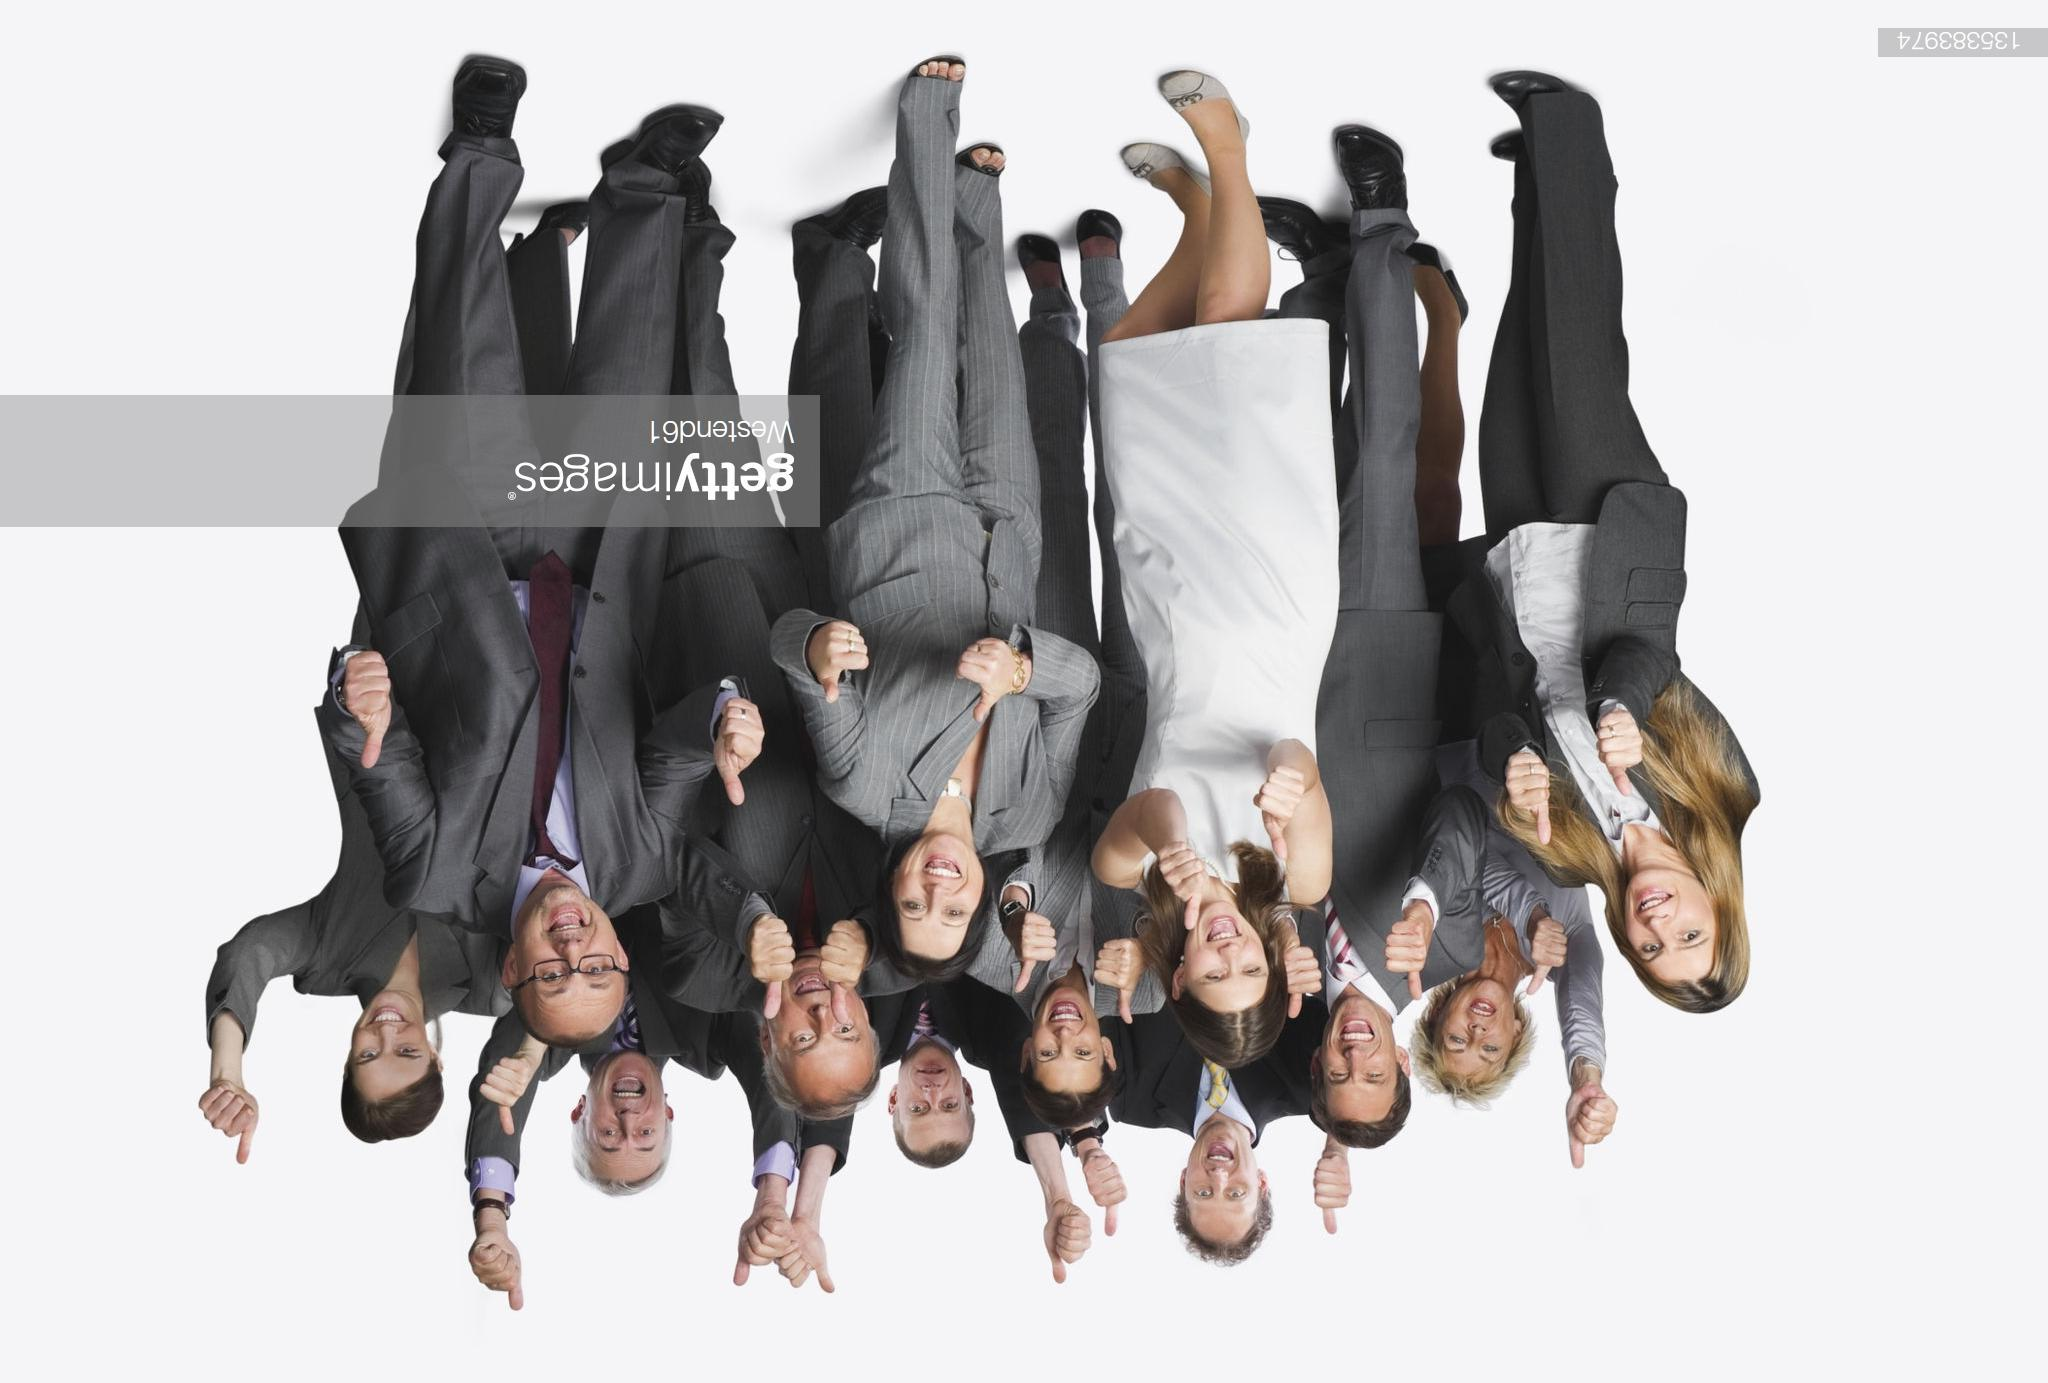thumbsdown: (344, 651, 392, 769), (820, 918, 869, 1026), (718, 698, 765, 806), (198, 1082, 259, 1165), (749, 918, 796, 1020), (1256, 766, 1306, 861), (1157, 841, 1208, 931), (1505, 752, 1551, 844), (1594, 710, 1644, 796), (733, 1215, 792, 1287), (955, 637, 1005, 722), (478, 1054, 529, 1136), (823, 620, 870, 704), (468, 1243, 525, 1312), (1094, 937, 1139, 1025), (1384, 918, 1429, 1002), (1082, 1155, 1127, 1238), (1570, 1096, 1619, 1168), (1016, 912, 1059, 994), (1525, 918, 1570, 996), (775, 1238, 835, 1293), (1312, 1158, 1354, 1235), (1049, 1212, 1093, 1286), (1284, 946, 1323, 1019)
